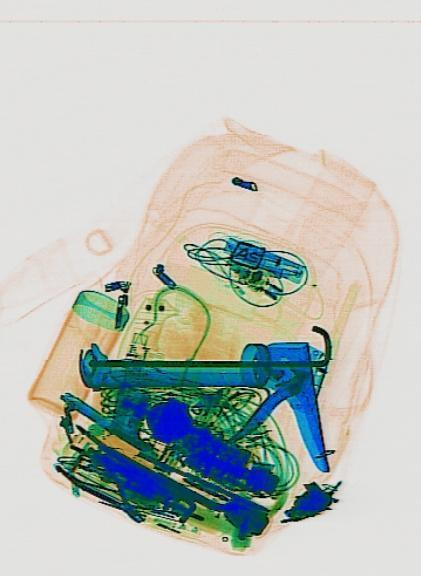Pliers: (52, 434, 149, 537)
